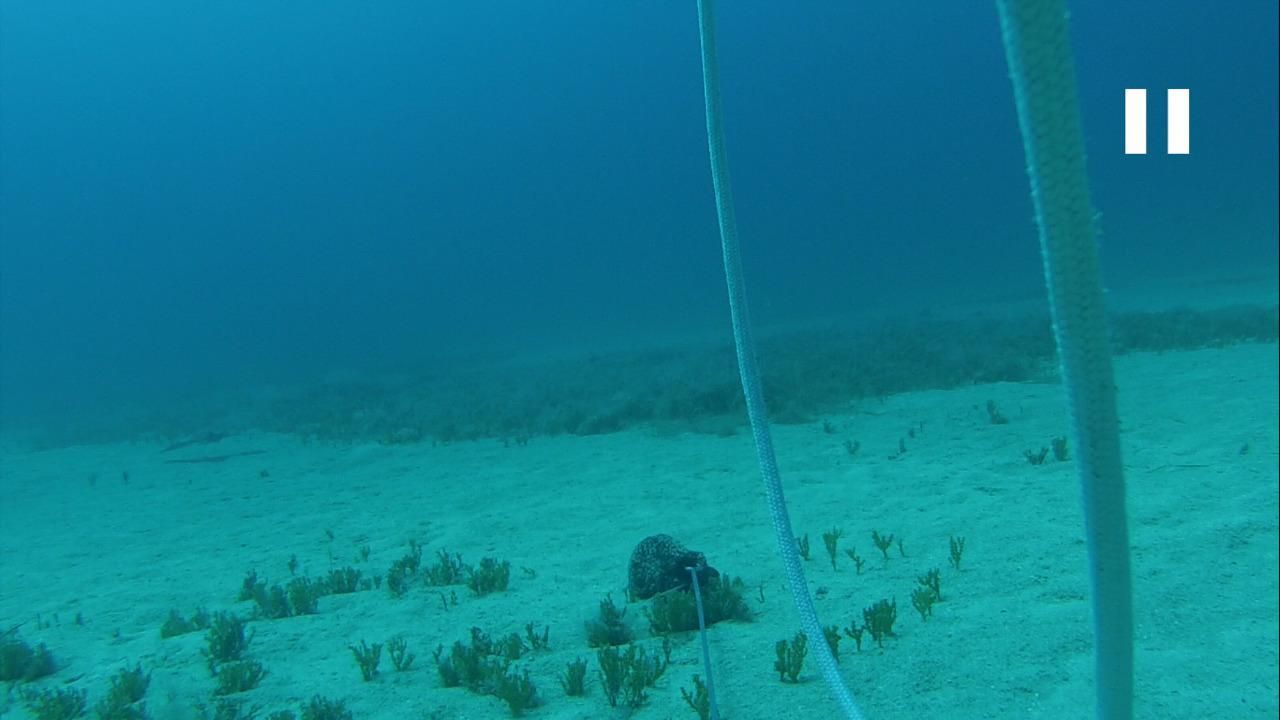dactylopterus: (148, 412, 260, 458)
